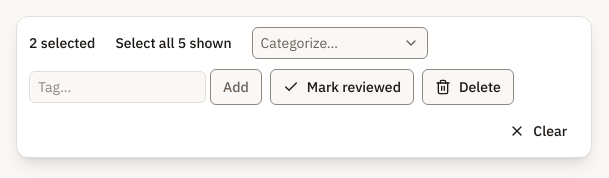
keeps the selection and reports the count on partial failure
The width and height of the screenshot is (609, 178).
What coordinates should you click on to do the following:
click the button "Delete"
I would click on:
 (468, 87)
Its box is [422,69,514,105].
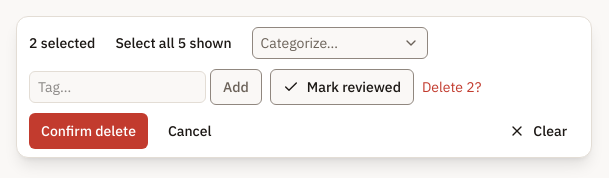
What coordinates should you click on to do the following:
click the button "Confirm delete"
I would click on:
 (88, 131)
Its box is [29,113,148,149].
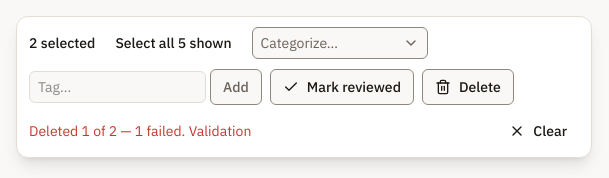
Expected: the message shows "1 failed", [29,122,251,140]
